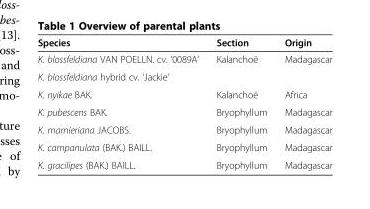table: (36, 36, 331, 170)
table column: (36, 36, 206, 170), (206, 36, 275, 170), (275, 36, 331, 170)
table column header: (36, 36, 331, 50)
table projected row header: (36, 67, 331, 85)
table row: (36, 67, 331, 85), (36, 102, 331, 120), (36, 120, 331, 138), (36, 50, 331, 67), (36, 85, 331, 102), (36, 138, 331, 155), (36, 155, 331, 170), (36, 36, 331, 50)
